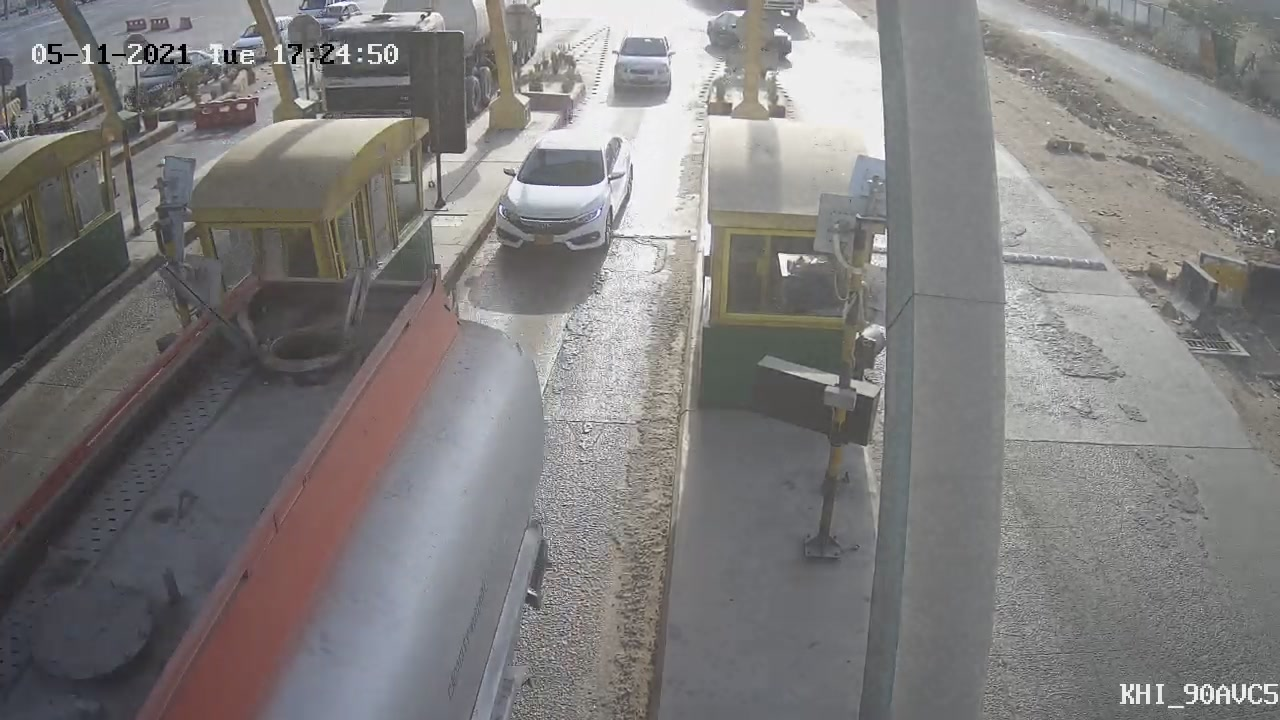F1: (478, 114, 651, 270)
